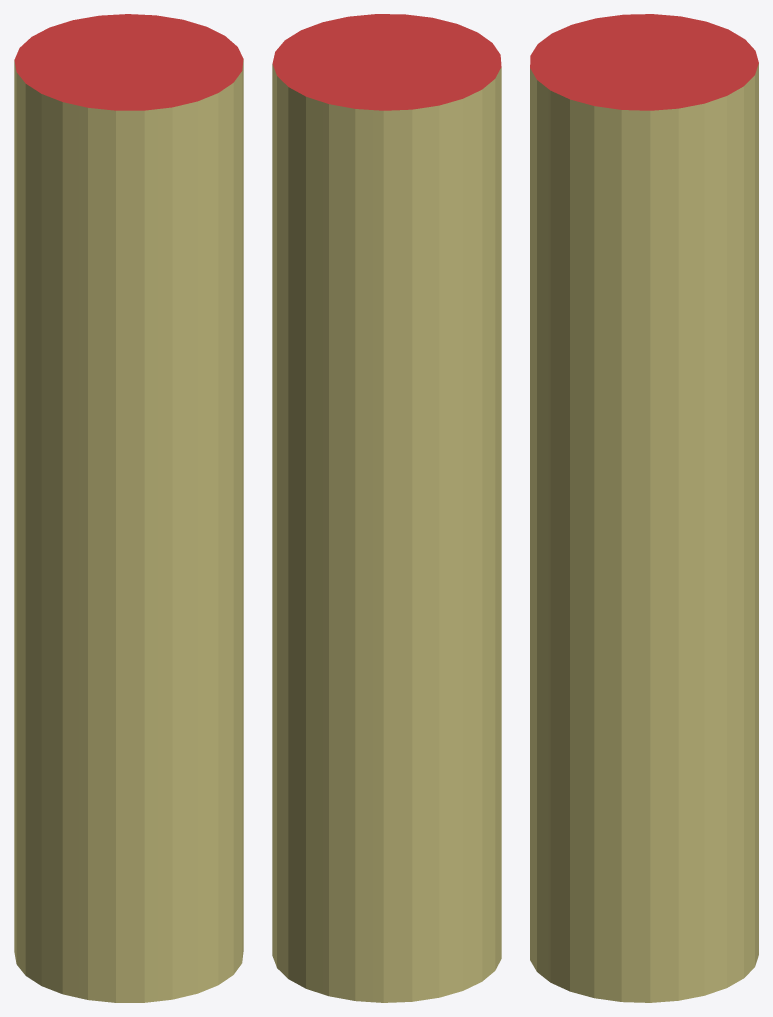
The picture shows the model from 3 angles, left to right: view 1: azimuth 30°, elevation 25°; view 2: azimuth 150°, elevation 25°; view 3: azimuth 270°, elevation 25°; orthographic projection.
Bounding box in the file's own units: 2.06 × 2.06 × 8.87.
